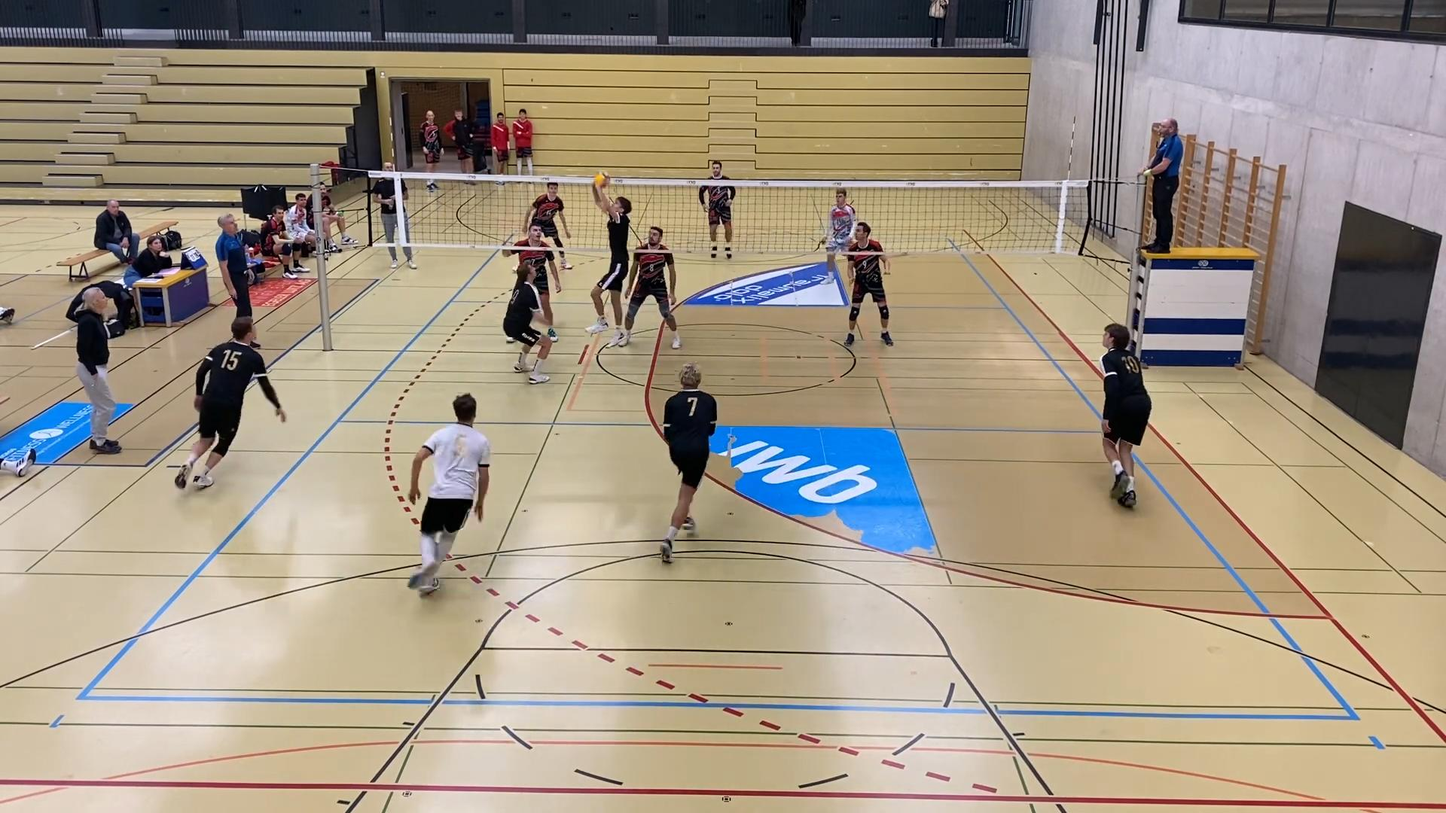alzata: (589, 167, 649, 325)
